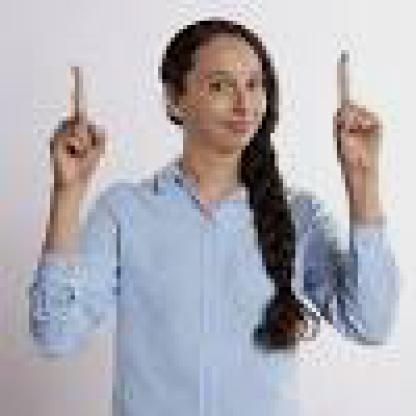Up: (319, 42, 391, 184), (40, 55, 116, 185)
